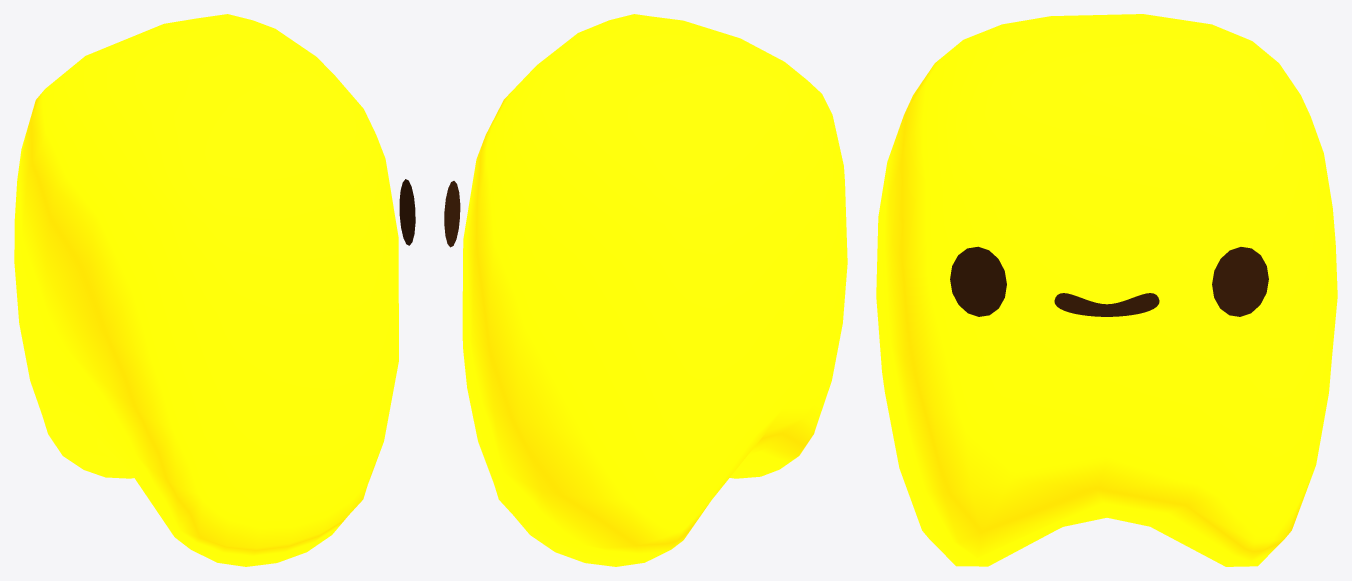
Rendered from Creature.glb.
3 views of the same model, side by side, from view 1: azimuth 30°, elevation 25°; view 2: azimuth 150°, elevation 25°; view 3: azimuth 270°, elevation 25° (orthographic). The views are drawn at different scales.
Visible parts, largest first — view 1: Cube, Cube.001; view 2: Cube, Cube.002; view 3: Cube, Cube.001, Cube.002, BézierCircle.
Part boxes in pixels (x1,y1,x2,y2): Cube: [14, 14, 398, 566]; Cube.001: [399, 179, 415, 245]; Cube: [462, 14, 847, 566]; Cube.002: [444, 181, 460, 247]; Cube: [876, 14, 1337, 566]; Cube.001: [950, 246, 1006, 316]; Cube.002: [1212, 247, 1268, 316]; BézierCircle: [1054, 293, 1159, 316].
Size of the model in its own units: 2 by 2.89 by 2.33.
